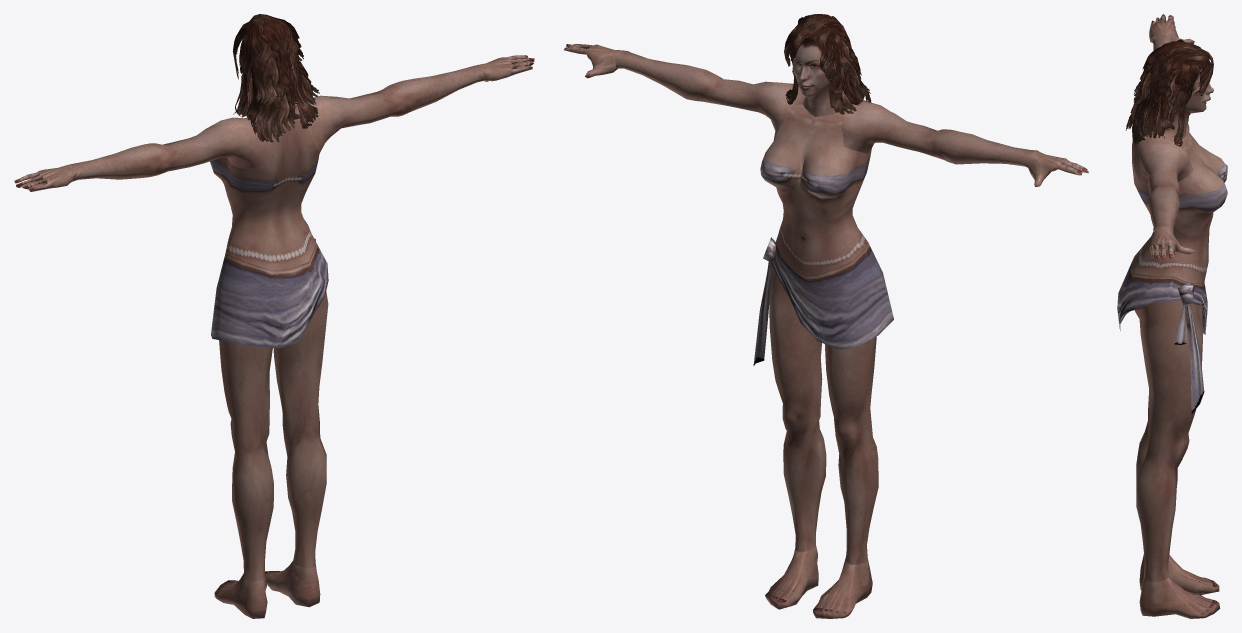
Rendered from MDL_twin00.obj.
The picture shows the model from 3 angles, left to right: view 1: azimuth 30°, elevation 25°; view 2: azimuth 150°, elevation 25°; view 3: azimuth 270°, elevation 25°; orthographic projection. The views are drawn at different scales.
Parts seen in each view (by area): view 1: body_body.030, Head_Head.009; view 2: body_body.030, Head_Head.009; view 3: body_body.030, Head_Head.009.
Part boxes in pixels (bbox=[...]): body_body.030: bbox=[14, 55, 534, 581]; Head_Head.009: bbox=[67, 14, 487, 618]; body_body.030: bbox=[564, 44, 1088, 564]; Head_Head.009: bbox=[615, 14, 1038, 618]; body_body.030: bbox=[1117, 14, 1227, 581]; Head_Head.009: bbox=[1125, 33, 1220, 618].
Bounding box in the file's own units: 33.94 × 36.31 × 6.5.
Materials: 2 (2 with a texture image).
